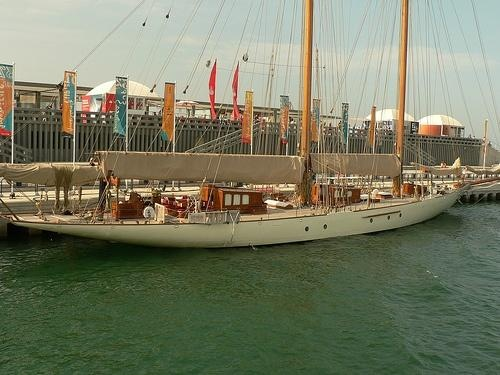boat: (4, 1, 500, 249)
